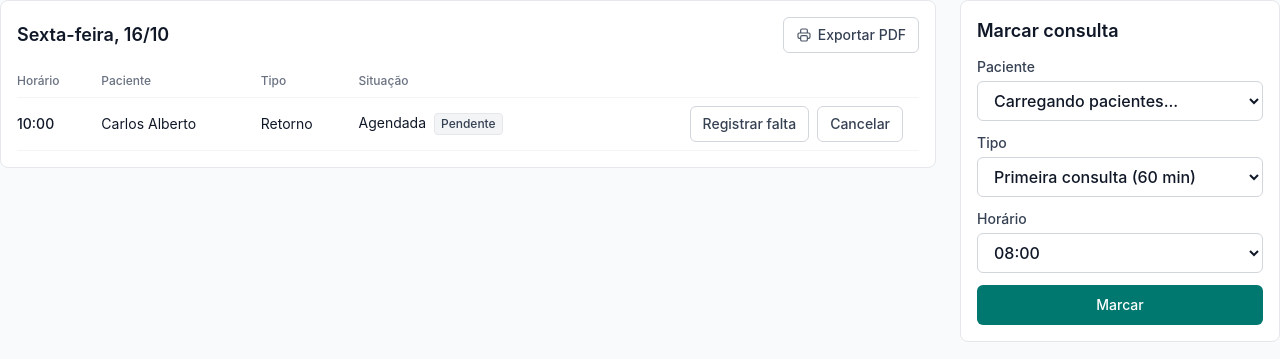
Test: RN08: Registro de Faltas e Restrições Operacionais (Front-end) › Área da Recepção (AgendaDoDia) › exibe alerta de erro se a API recusar o registro de falta
Click the button "Registrar falta" at point(749, 124), box [690, 106, 809, 142]
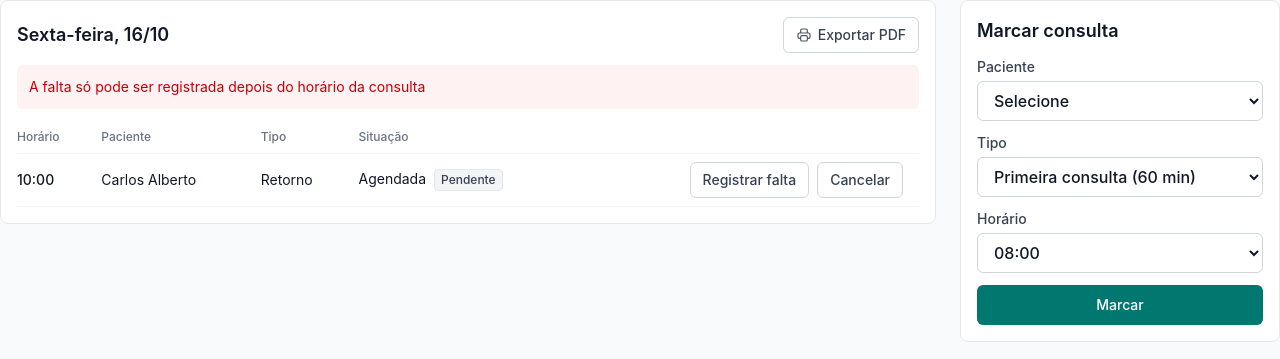
Check: the text "A falta só pode ser registrada depois do horário da consulta" is shown, box [17, 65, 919, 109]
